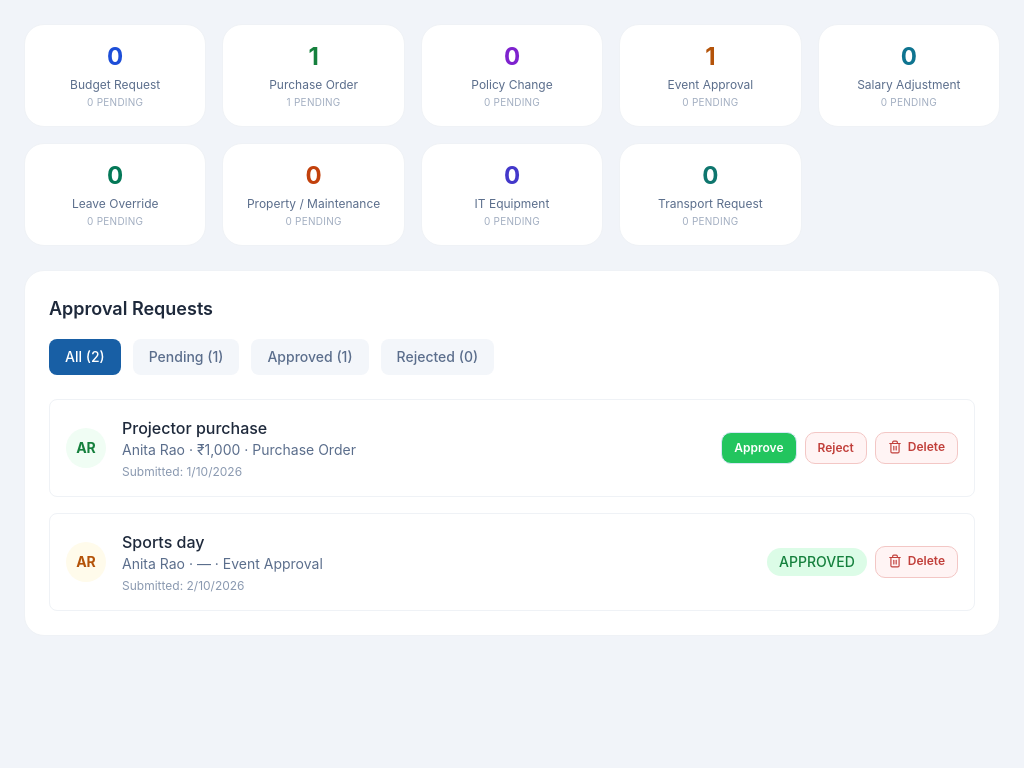
Scenario: Approval Requests delete › confirms, deletes, and updates the list and tab counts immediately
Check: the text "Projector purchase" is shown, box [122,418,267,438]
Check: the button "All (2)" is shown, box [49,339,121,375]
What coordinates should you click on to do the following:
click the button with aria-label "Delete approval request"
I would click on:
 (916, 448)
Its box is [875,432,958,464].
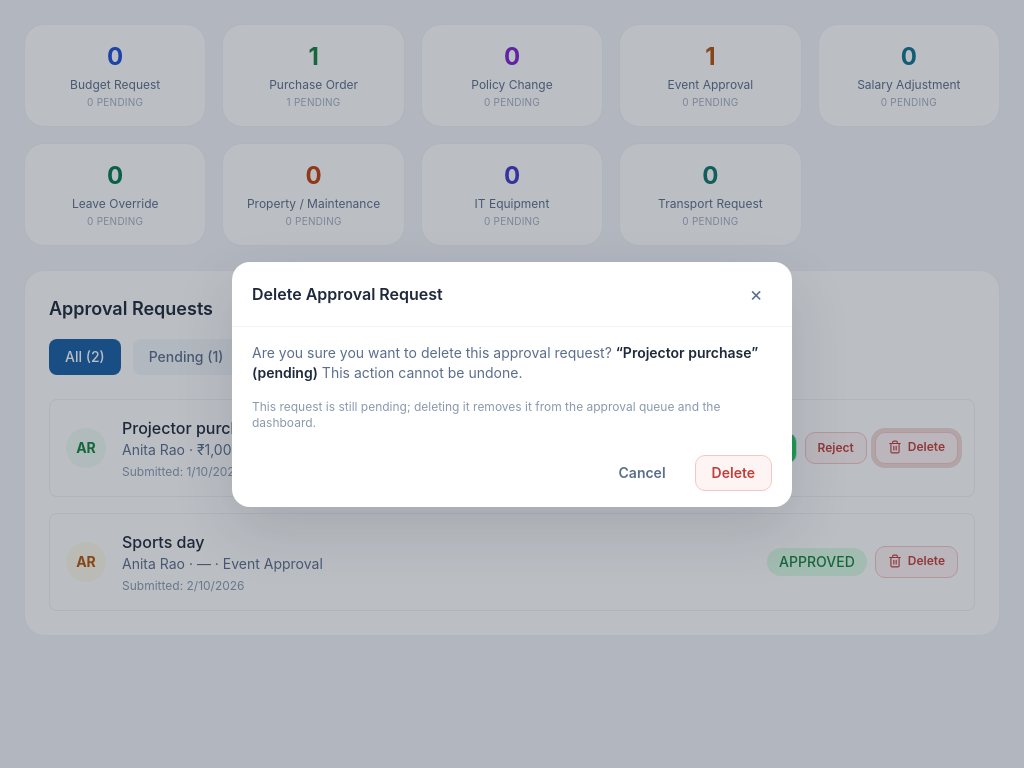
Check: the text "“Projector purchase” (pending)" is shown, box [252,344,758,380]
What coordinates should you click on to do the following:
click the button "Delete"
I would click on:
 (733, 472)
Its box is [695,454,772,490].
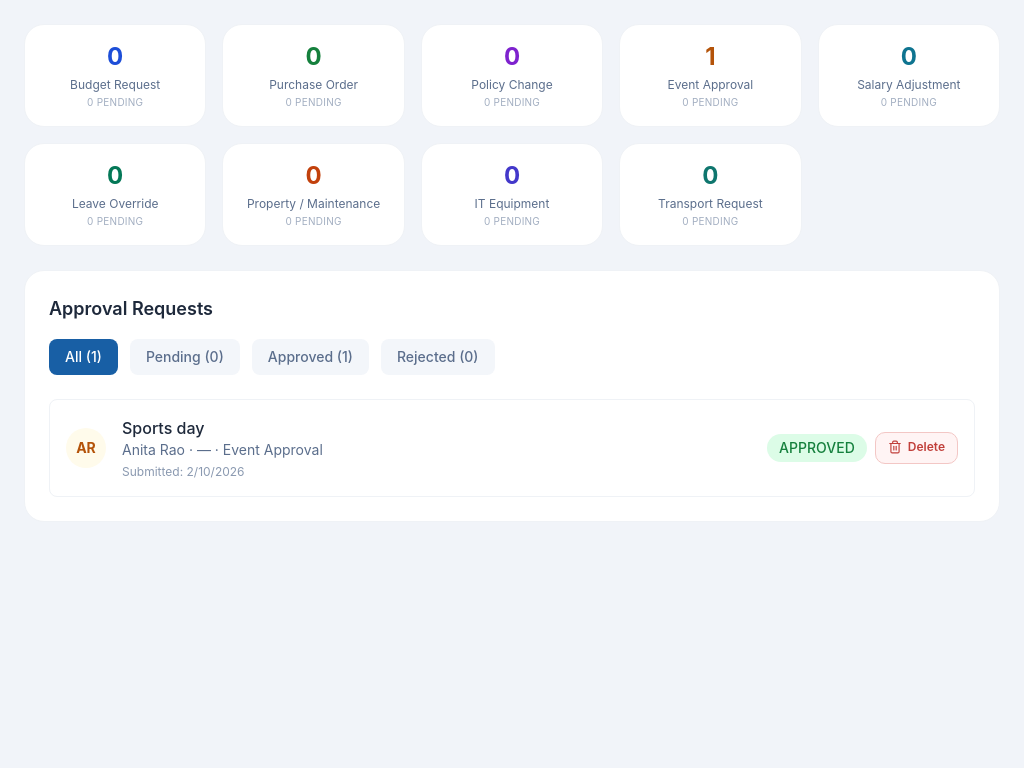
Check: the text "Sports day" is shown, box [122,418,204,438]
Check: the text "Projector purchase" is gone
Check: the button "All (1)" is shown, box [49,339,118,375]
